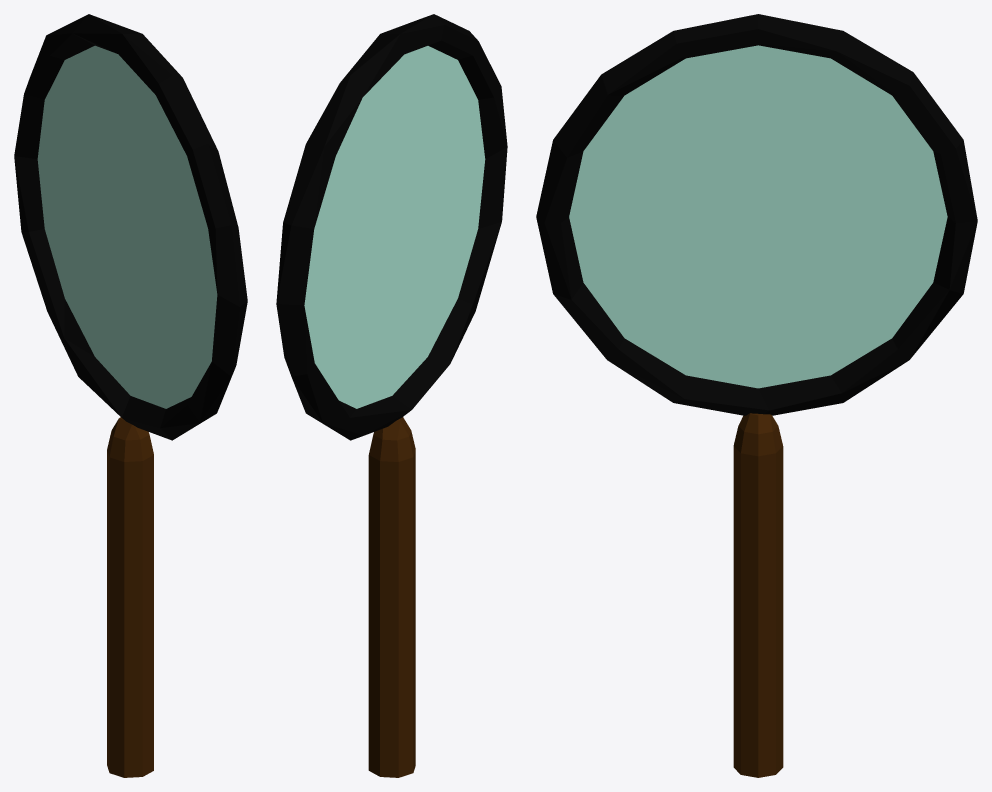
File: lente.fbx
The picture shows the model from 3 angles, left to right: view 1: azimuth 30°, elevation 25°; view 2: azimuth 150°, elevation 25°; view 3: azimuth 270°, elevation 25°; orthographic projection.
Visible parts, largest first — view 1: lenteVetro, Lente; view 2: lenteVetro, Lente; view 3: lenteVetro, Lente.
Boxes of the visible parts, left/top/right/bottom form: lenteVetro: left=37, top=45, right=217, bottom=408; Lente: left=14, top=14, right=247, bottom=777; lenteVetro: left=304, top=46, right=485, bottom=408; Lente: left=276, top=14, right=507, bottom=777; lenteVetro: left=569, top=45, right=947, bottom=388; Lente: left=536, top=14, right=977, bottom=777.
Bounding box in the file's own units: 3.44 × 57.4 × 30.66.
